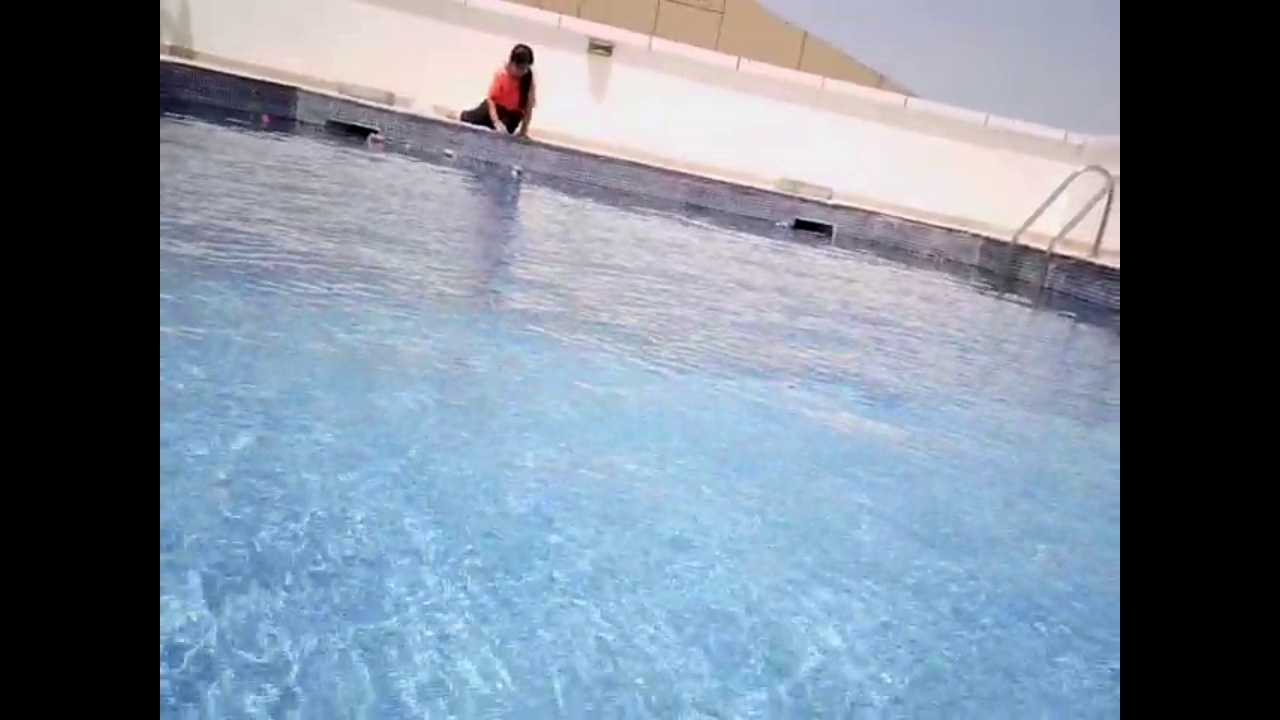debris: (768, 214, 796, 237), (436, 141, 462, 163), (506, 164, 532, 183), (366, 131, 389, 149), (252, 112, 274, 127), (399, 138, 415, 154)
